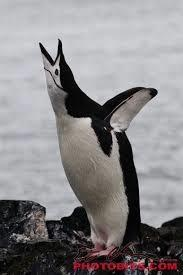chinstrap: (20, 27, 178, 274)
